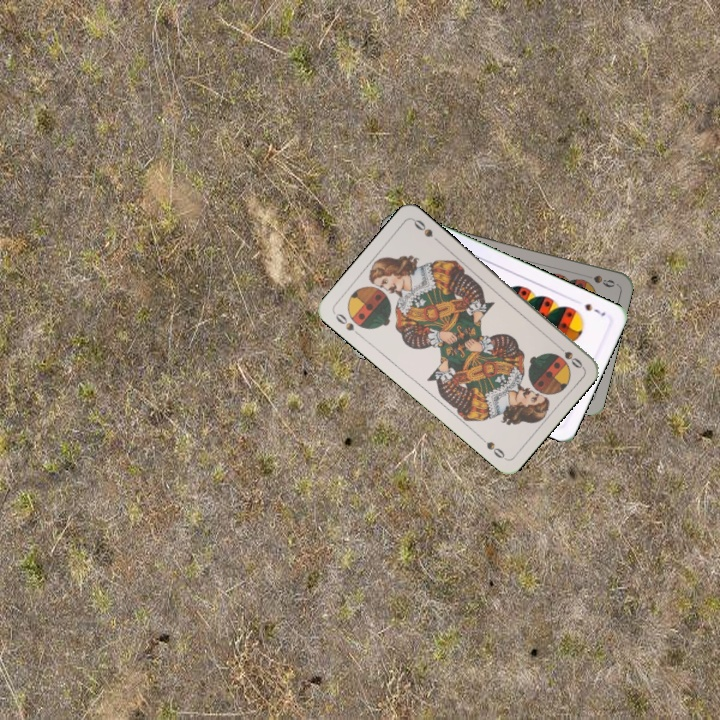S7: (581, 299, 608, 319)
S9: (578, 270, 618, 290)
SO: (552, 340, 585, 371), (330, 309, 364, 339)
